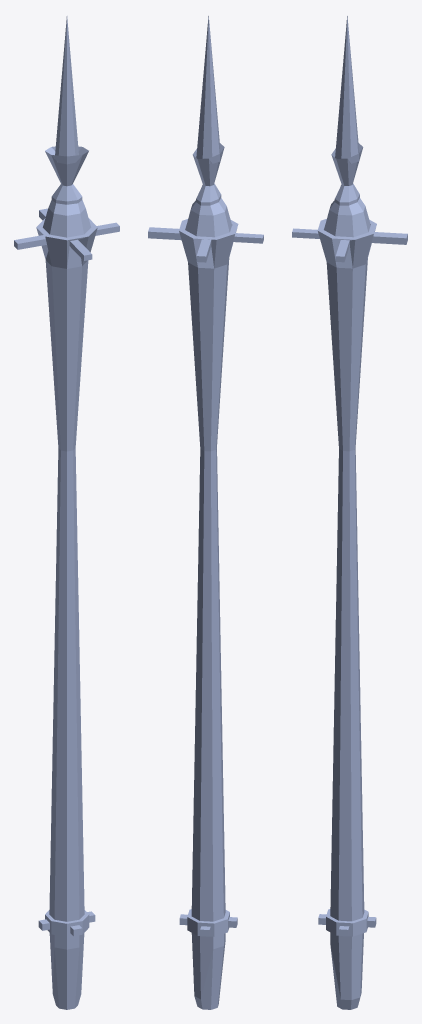
Rendered from Spear.fbx.
The picture shows the model from 3 angles, left to right: view 1: azimuth 90°, elevation 25°; view 2: azimuth 150°, elevation 25°; view 3: azimuth 330°, elevation 25°; orthographic projection.
Parts seen in each view (by area): view 1: Circle; view 2: Circle; view 3: Circle.
Boxes of the visible parts, left/top/right/bottom form: Circle: left=14, top=16, right=119, bottom=1009; Circle: left=148, top=16, right=263, bottom=1009; Circle: left=292, top=16, right=407, bottom=1009.
Bounding box in the file's own units: 54.49 × 540 × 52.25.
